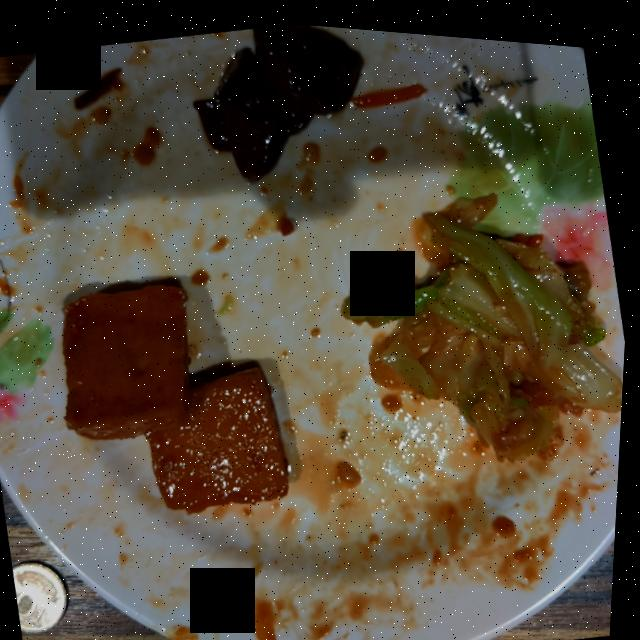cabbage: (347, 188, 626, 451)
coin: (18, 560, 74, 631)
creamy tofu: (67, 280, 293, 509)
pig blood curd: (195, 19, 361, 177)
